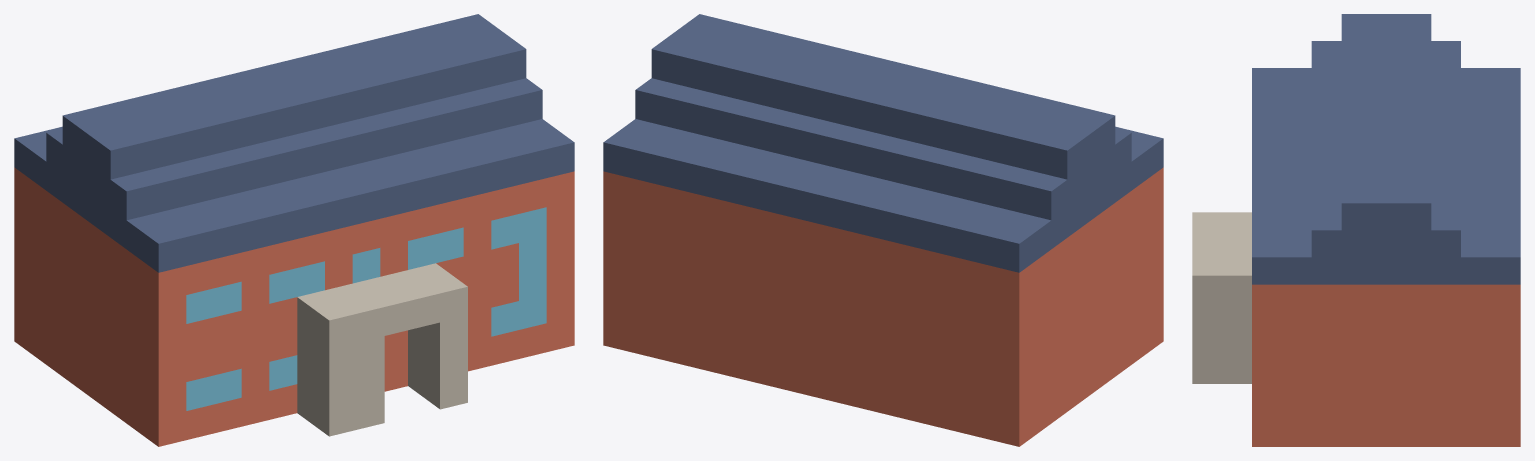
Rendered from library.glb.
The picture shows the model from 3 angles, left to right: view 1: azimuth 30°, elevation 25°; view 2: azimuth 150°, elevation 25°; view 3: azimuth 270°, elevation 25°; orthographic projection. The views are drawn at different scales.
Visible parts, largest first — view 1: library_roof_slate, library_brick, library_stone, library_window; view 2: library_brick, library_roof_slate; view 3: library_roof_slate, library_brick, library_stone.
Boxes of the visible parts, x1=… form: library_roof_slate: x1=14, y1=14, x2=574, y2=272; library_brick: x1=14, y1=167, x2=574, y2=446; library_stone: x1=297, y1=263, x2=467, y2=436; library_window: x1=186, y1=207, x2=546, y2=410; library_brick: x1=603, y1=167, x2=1163, y2=446; library_roof_slate: x1=603, y1=14, x2=1163, y2=272; library_roof_slate: x1=1252, y1=14, x2=1520, y2=284; library_brick: x1=1252, y1=284, x2=1520, y2=446; library_stone: x1=1192, y1=212, x2=1251, y2=383.
Size of the model in its own units: 22.62 by 13.57 by 16.59.
